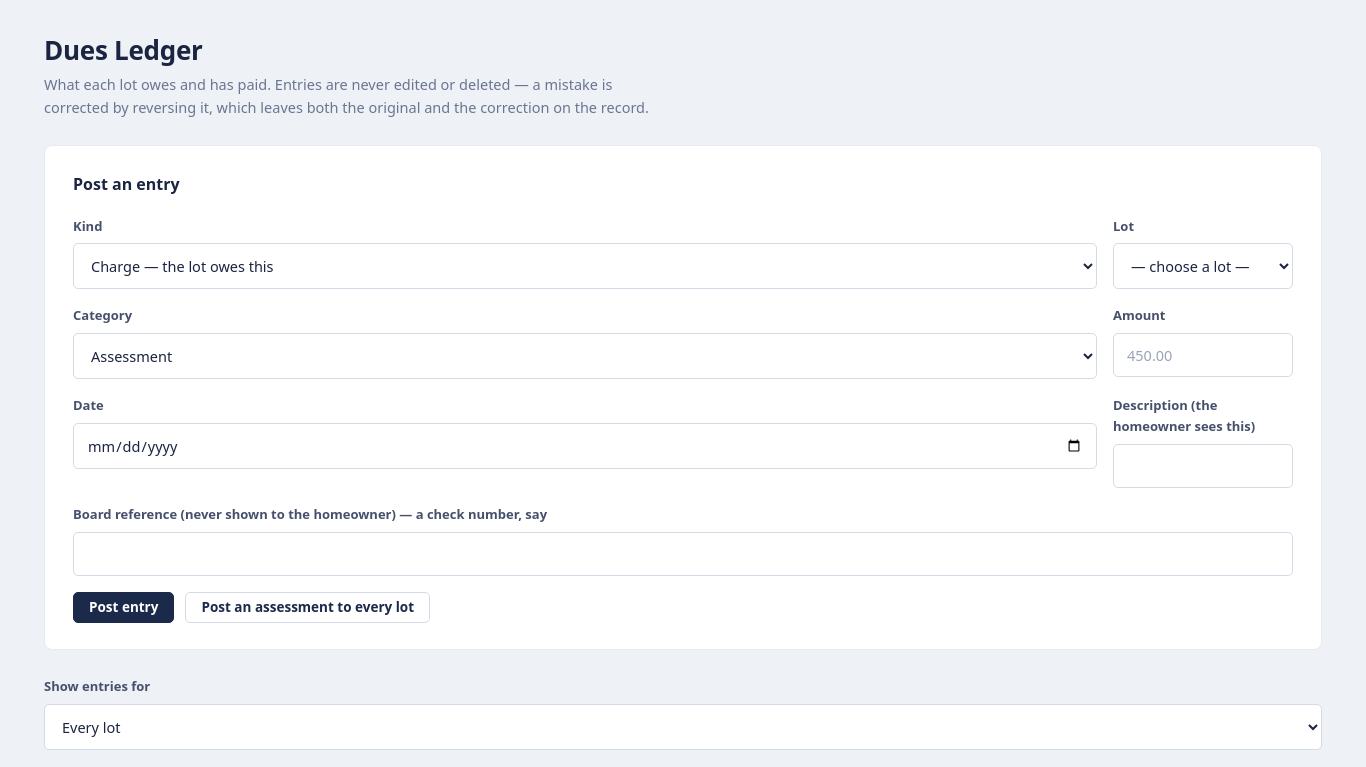
Test case: the money a board member types › refuses a blank amount before it sends anything
The image size is (1366, 767).
Select "1 Ashebrook Lane" in the dropdown labelled "Lot": coordinates (1203, 266) [1113, 243, 1293, 289]
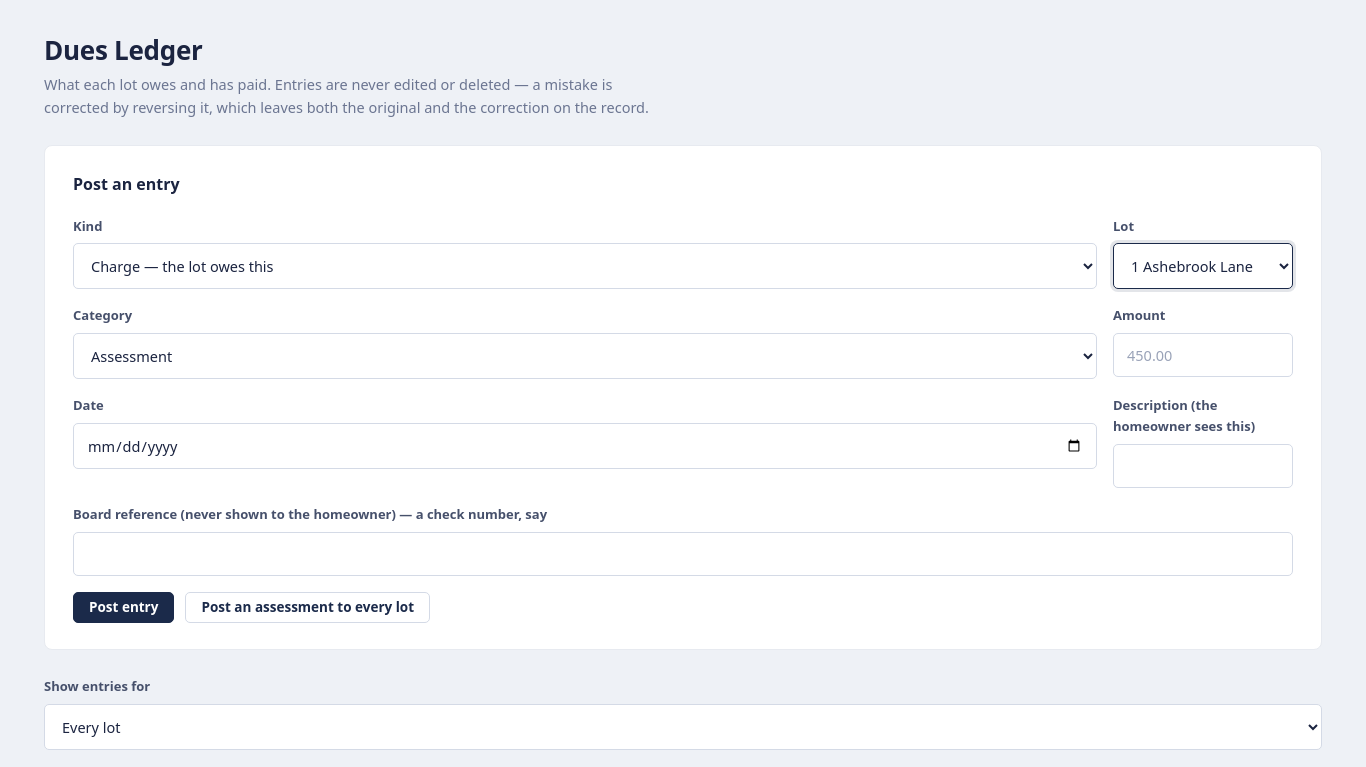
In the date field labelled "Date": coordinates (585, 446) [73, 423, 1097, 469], type "2026-02-01"
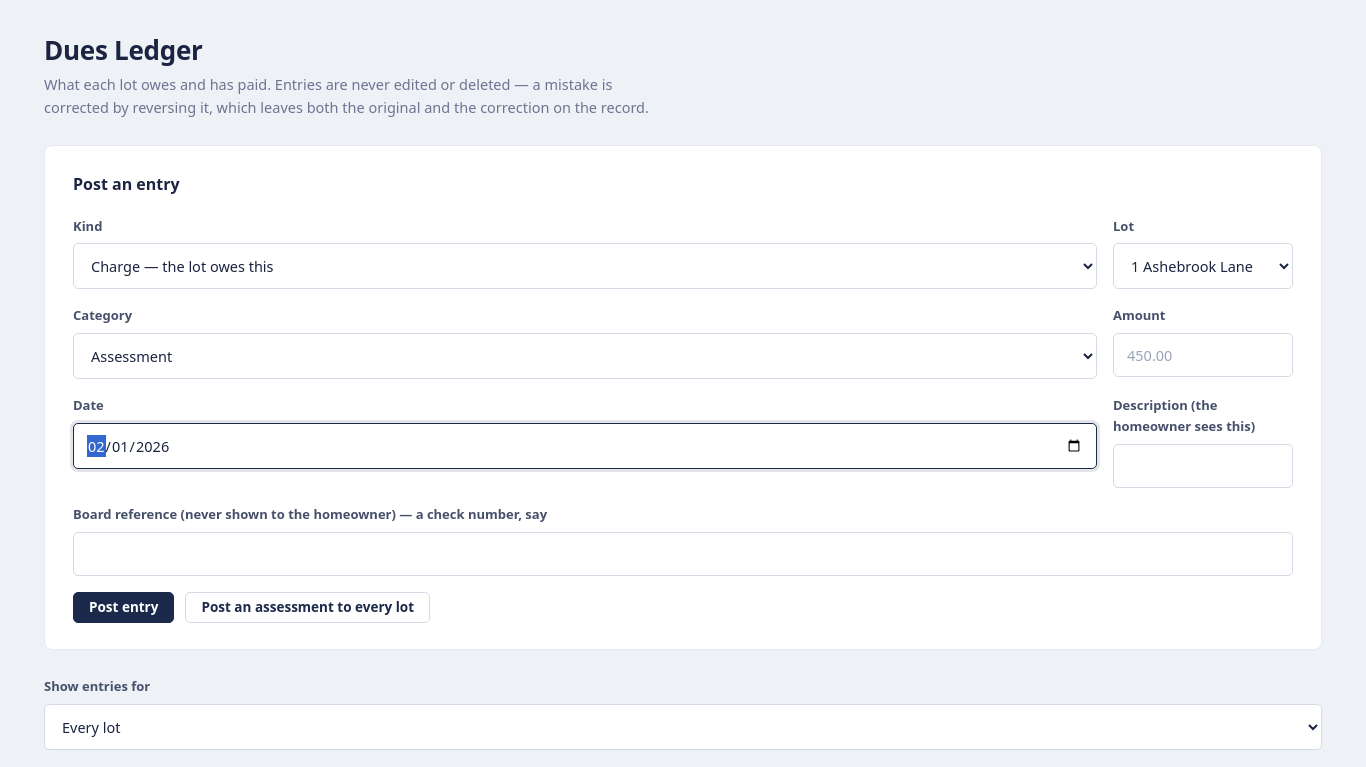
In the field labelled "Description (the homeowner sees this)": coordinates (1203, 466) [1113, 444, 1293, 488], type "Q1 assessment"
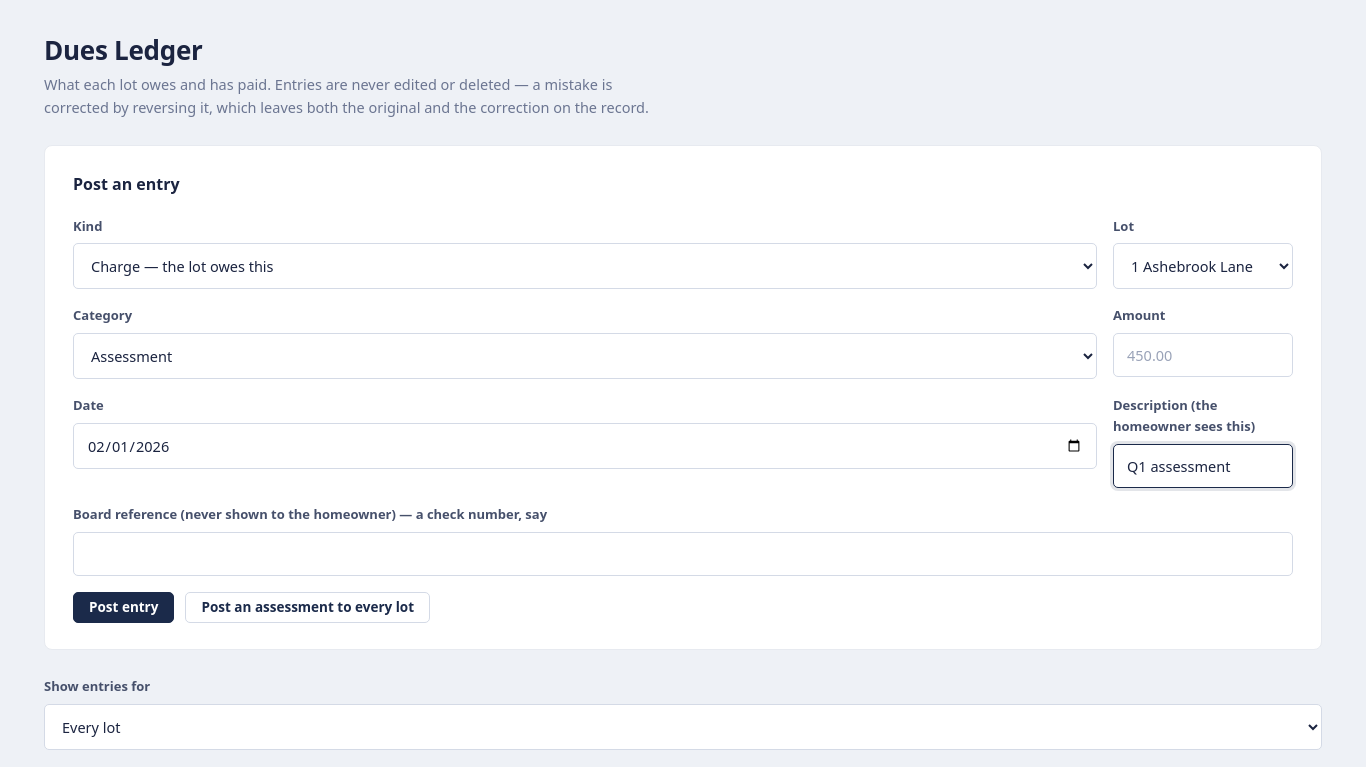
Click the button "Post entry": coordinates (124, 607) [73, 592, 174, 623]
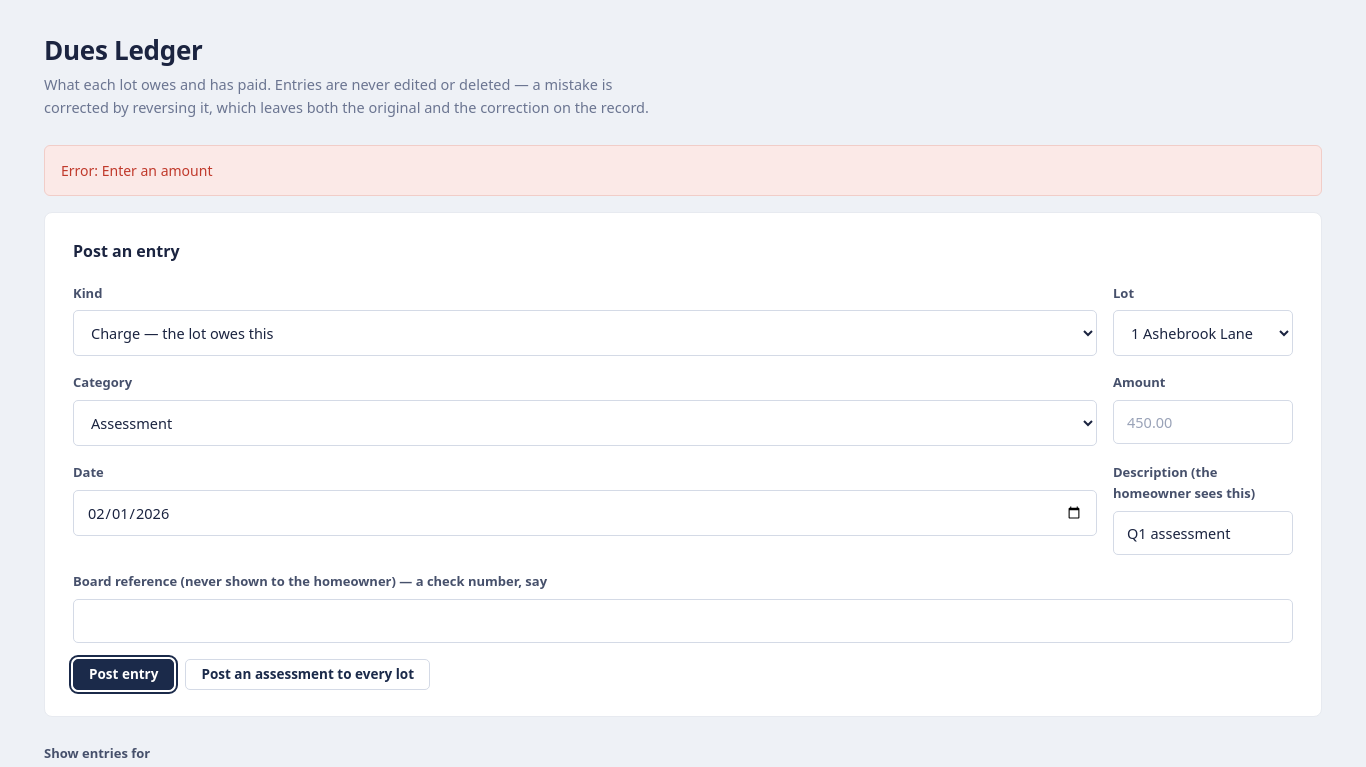
Expected: the text "Error: Enter an amount" is shown, [44, 145, 1322, 196]
